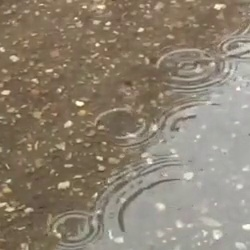drop: (96, 156, 184, 235), (153, 46, 232, 94), (156, 102, 224, 151), (94, 106, 156, 148), (52, 210, 103, 248), (216, 37, 250, 62)
